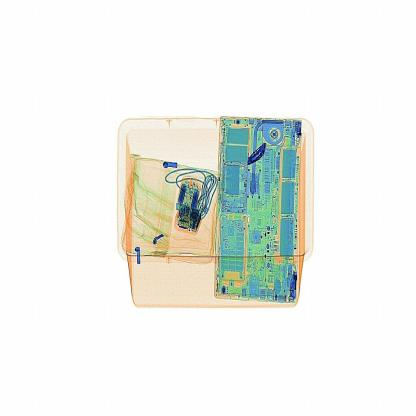knife: (242, 134, 272, 176)
